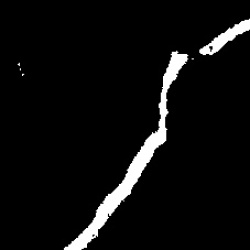crack: (65, 51, 191, 249), (200, 21, 247, 58)
pinhole: (16, 63, 27, 82)
